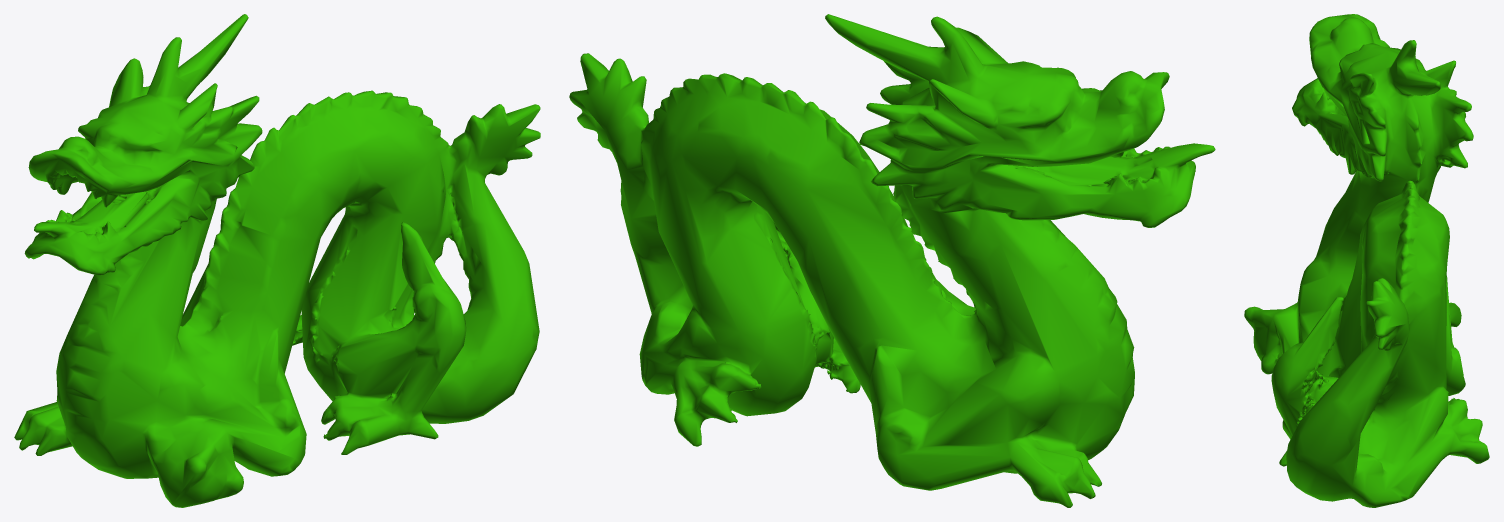
The model's file is dragon_lod_mid.fbx.
3 views of the same model, side by side, from view 1: azimuth 30°, elevation 25°; view 2: azimuth 150°, elevation 25°; view 3: azimuth 270°, elevation 25° (orthographic). The views are drawn at different scales.
Parts seen in each view (by area): view 1: Dragon; view 2: Dragon; view 3: Dragon.
Boxes of the visible parts, bbox=[...] form: Dragon: bbox=[14, 14, 540, 507]; Dragon: bbox=[569, 14, 1215, 507]; Dragon: bbox=[1244, 14, 1489, 507].
Bounding box in the file's own units: 1409 × 994 × 630.
